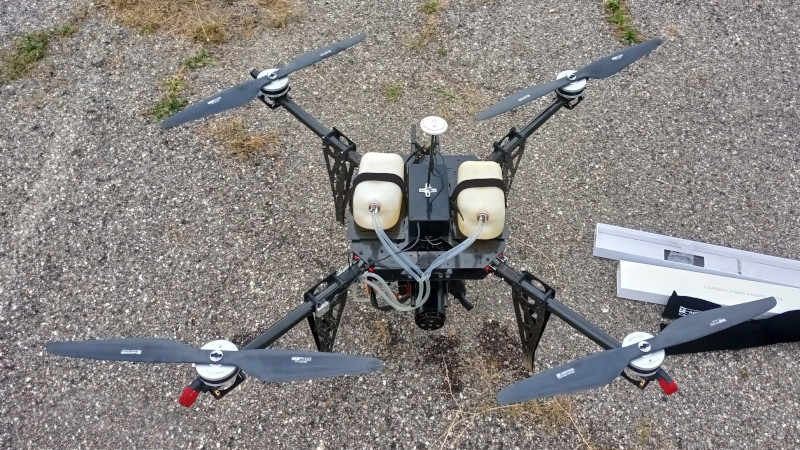drone: (39, 26, 781, 413)
